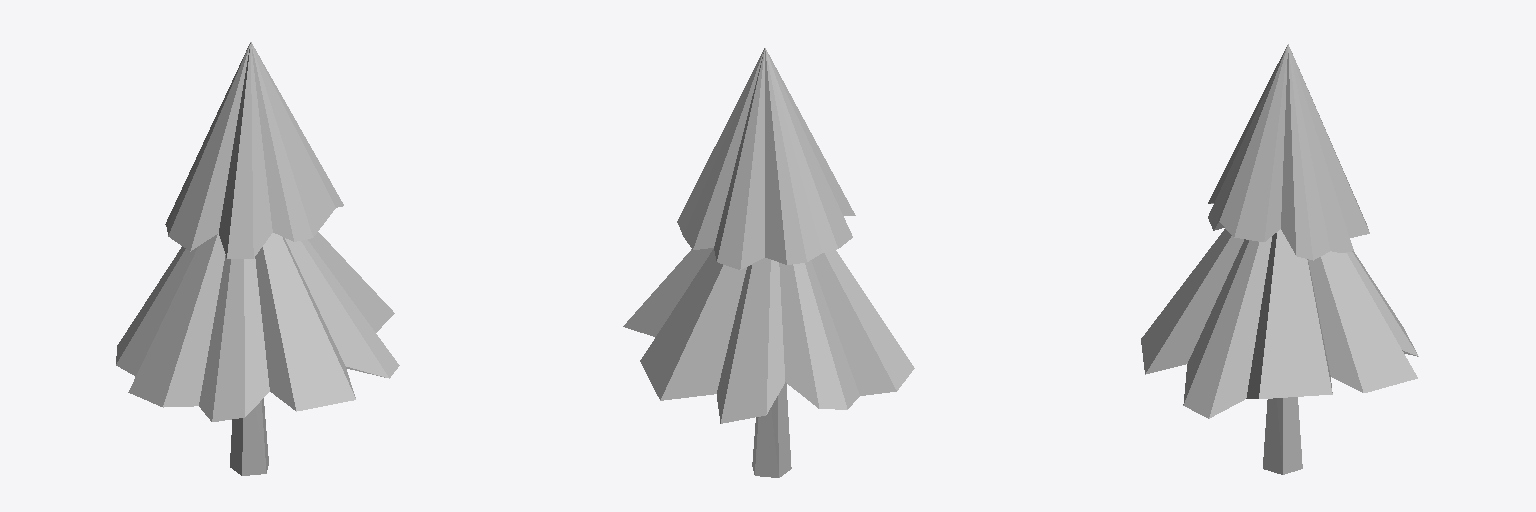
Rendered from Forest_A_FirTree_24.obj.
3 views of the same model, side by side, from view 1: azimuth 30°, elevation 25°; view 2: azimuth 150°, elevation 25°; view 3: azimuth 270°, elevation 25° (orthographic).
Parts seen in each view (by area): view 1: Forest_A_FirTree_24; view 2: Forest_A_FirTree_24; view 3: Forest_A_FirTree_24.
Boxes of the visible parts, x1,y1,x2,y2 form: Forest_A_FirTree_24: [116, 42, 399, 475]; Forest_A_FirTree_24: [623, 48, 914, 477]; Forest_A_FirTree_24: [1141, 44, 1418, 474].
Size of the model in its own units: 136 by 214 by 127.